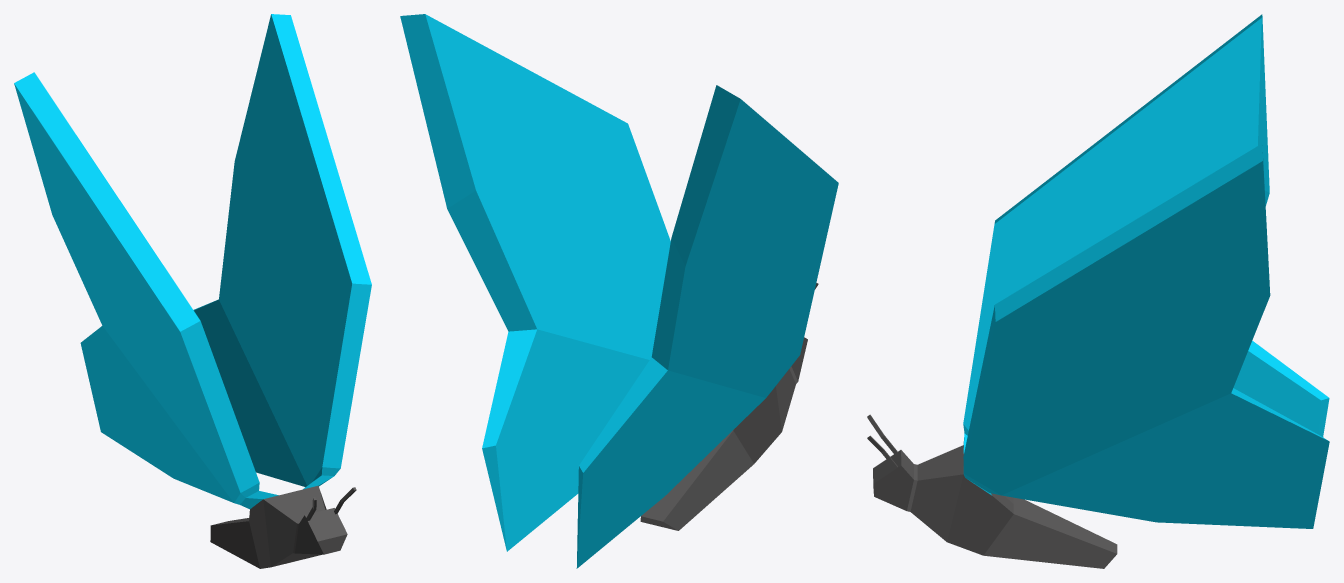
Rendered from butterfly.glb.
The picture shows the model from 3 angles, left to right: view 1: azimuth 30°, elevation 25°; view 2: azimuth 150°, elevation 25°; view 3: azimuth 270°, elevation 25°; orthographic projection. The views are drawn at different scales.
Parts seen in each view (by area): view 1: Plane; view 2: Plane; view 3: Plane.
Part boxes in pixels (left/top/right/bottom): Plane: left=14, top=14, right=371, bottom=568; Plane: left=400, top=14, right=838, bottom=568; Plane: left=867, top=14, right=1329, bottom=568.
Size of the model in its own units: 1.44 by 2.2 by 1.92.
